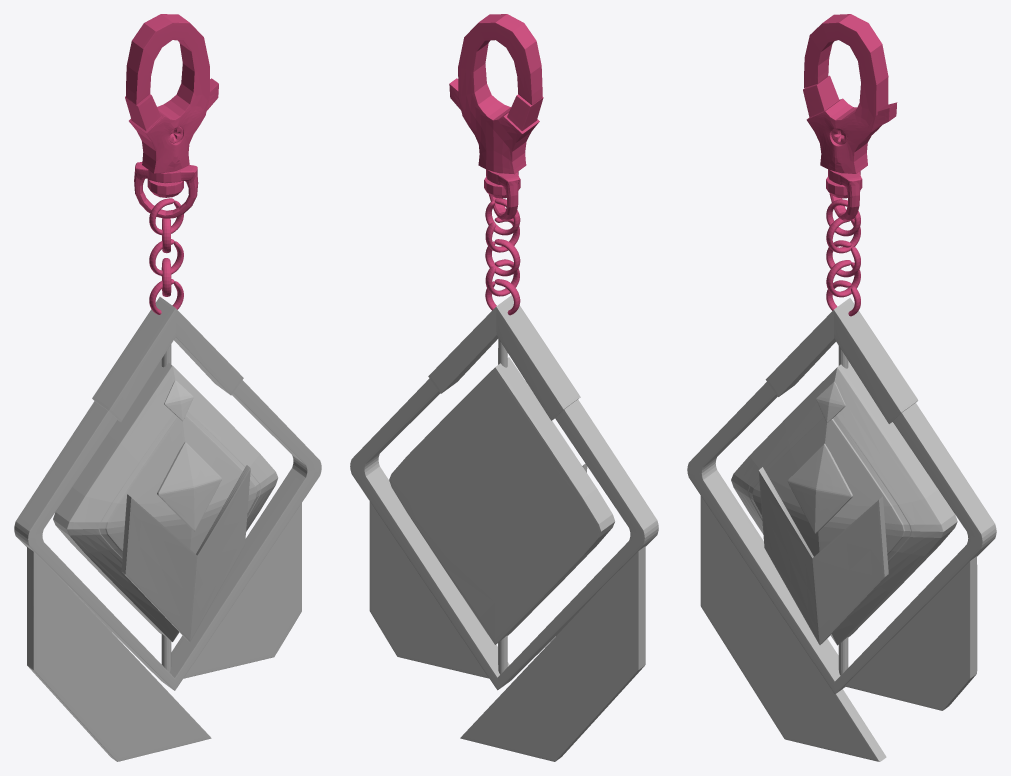
File: interactive_1_2.glb
The picture shows the model from 3 angles, left to right: view 1: azimuth 30°, elevation 25°; view 2: azimuth 150°, elevation 25°; view 3: azimuth 330°, elevation 25°; orthographic projection.
Visible parts, largest first — view 1: world; view 2: world; view 3: world.
Part boxes in pixels (bbox=[...]): world: bbox=[14, 14, 321, 761]; world: bbox=[350, 14, 658, 761]; world: bbox=[687, 14, 996, 761].
Bounding box in the file's own units: 0.3879 × 0.9163 × 0.0996.
